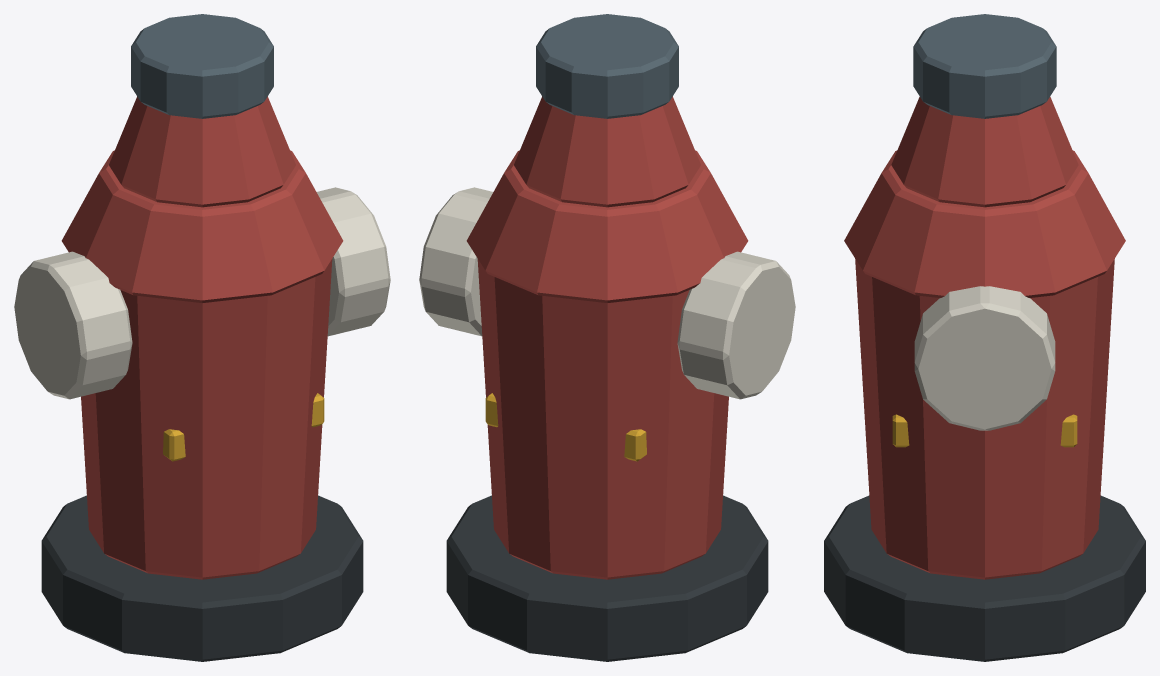
Rendered from PRP_CITY_009_fire_hydrant.glb.
3 renders of one model, left to right at view 1: azimuth 30°, elevation 25°; view 2: azimuth 150°, elevation 25°; view 3: azimuth 270°, elevation 25°, orthographic.
Visible parts, largest first — view 1: PRP_CITY_009_fire_hydrant_RenderMesh; view 2: PRP_CITY_009_fire_hydrant_RenderMesh; view 3: PRP_CITY_009_fire_hydrant_RenderMesh.
Part boxes in pixels (<box>): PRP_CITY_009_fire_hydrant_RenderMesh: <box>14,14,390,661</box>; PRP_CITY_009_fire_hydrant_RenderMesh: <box>419,14,795,661</box>; PRP_CITY_009_fire_hydrant_RenderMesh: <box>824,14,1145,661</box>.
Bounding box in the file's own units: 0.6 × 1.02 × 0.54.
